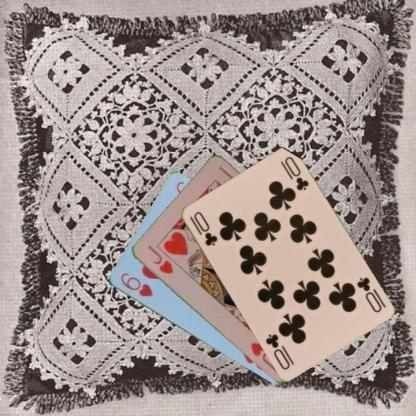10c: (354, 274, 383, 314), (191, 209, 219, 247)
6h: (118, 270, 154, 298)
Jh: (145, 242, 174, 276)
